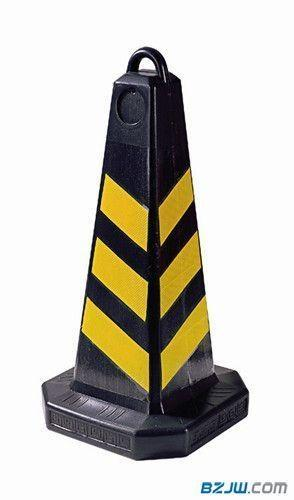cone_barrel: (56, 63, 236, 446)
